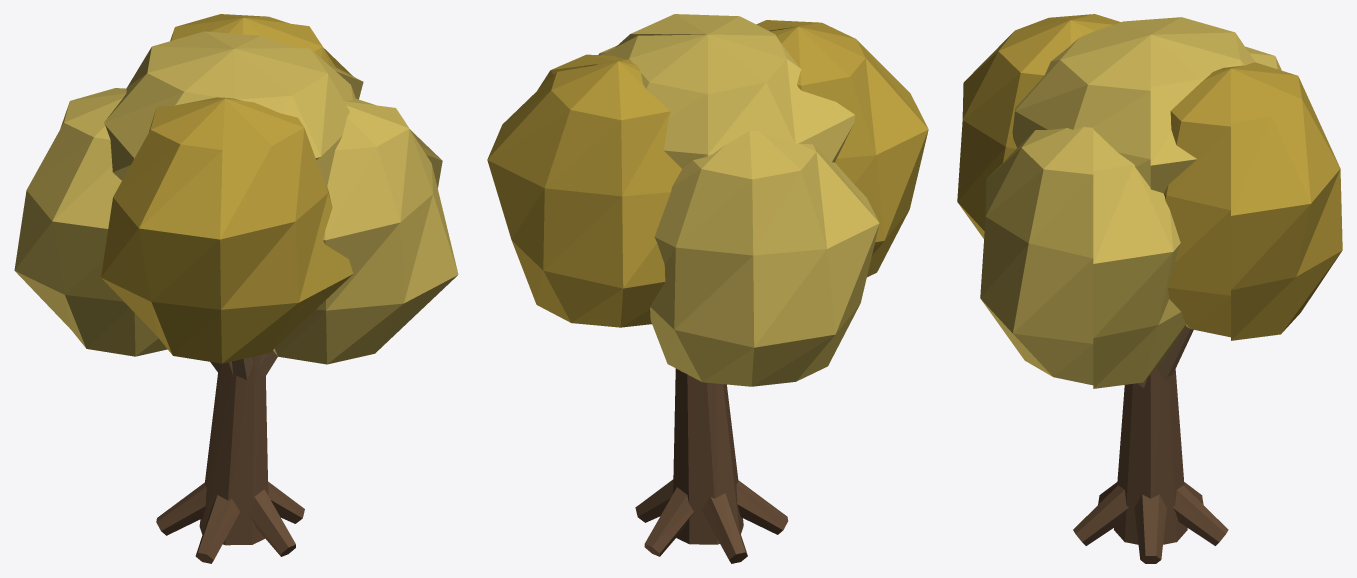
Rendered from golden_crown.glb.
The picture shows the model from 3 angles, left to right: view 1: azimuth 30°, elevation 25°; view 2: azimuth 150°, elevation 25°; view 3: azimuth 270°, elevation 25°; orthographic projection. The views are drawn at different scales.
Parts seen in each view (by area): view 1: WoodlandMesh; view 2: WoodlandMesh; view 3: WoodlandMesh.
Part boxes in pixels (x1,y1,x2,y2): WoodlandMesh: (14,14,458,563); WoodlandMesh: (487,14,928,563); WoodlandMesh: (957,14,1342,563).
Bounding box in the file's own units: 4.77 × 6.27 × 4.38.
